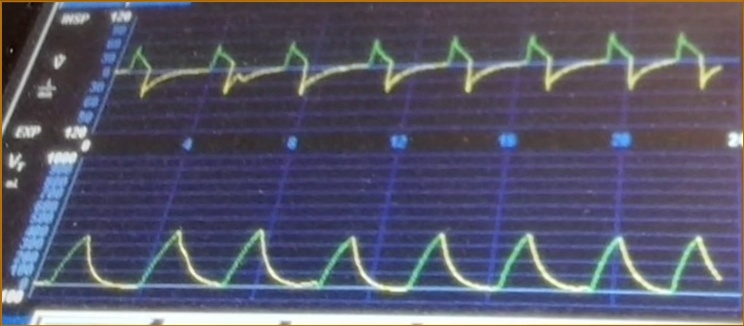Premature_cycling Flow: (124, 22, 721, 121)
Premature_cycling Volume: (43, 225, 724, 306)
